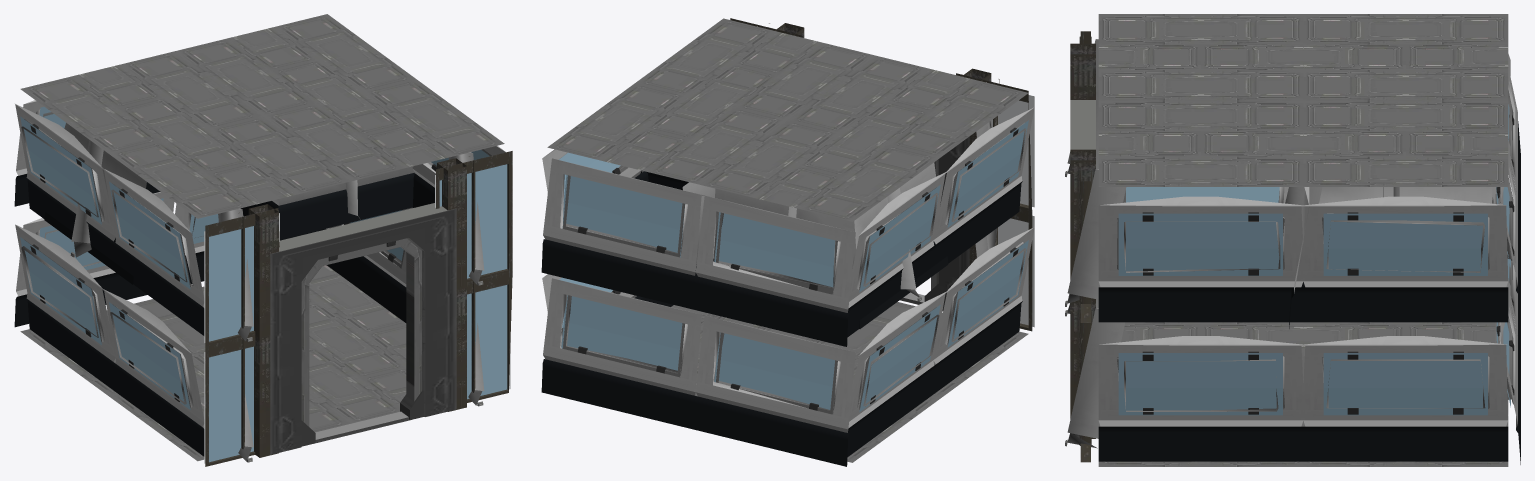
File: pavillon-astra.lod1.glb
3 renders of one model, left to right at view 1: azimuth 30°, elevation 25°; view 2: azimuth 150°, elevation 25°; view 3: azimuth 270°, elevation 25°, orthographic. The views are drawn at different scales.
Visible parts, largest first — view 1: Platform_3Plates, WallAstra_Straight_Window, Metal_FullWindow, Metal_Column_Center; view 2: WallAstra_Straight_Window, Platform_3Plates, Metal_FullWindow, Metal_Column_Center; view 3: WallAstra_Straight_Window, Platform_3Plates, Metal_Column_Center, Metal_FullWindow.
Boxes of the visible parts, left/top/right/bottom form: Platform_3Plates: left=20, top=14, right=504, bottom=462; WallAstra_Straight_Window: left=14, top=100, right=505, bottom=461; Metal_FullWindow: left=204, top=151, right=512, bottom=466; Metal_Column_Center: left=248, top=158, right=466, bottom=457; WallAstra_Straight_Window: left=541, top=26, right=1034, bottom=466; Platform_3Plates: left=547, top=18, right=1028, bottom=462; Metal_FullWindow: left=730, top=18, right=1034, bottom=331; Metal_Column_Center: left=774, top=23, right=991, bottom=265; WallAstra_Straight_Window: left=1067, top=39, right=1520, bottom=464; Platform_3Plates: left=1065, top=14, right=1508, bottom=466; Metal_Column_Center: left=1070, top=43, right=1095, bottom=438; Metal_FullWindow: left=1079, top=31, right=1091, bottom=462.
Bounding box in the file's own units: 8.5 × 6.03 × 8.9.
Materials: 8 (8 with a texture image).
